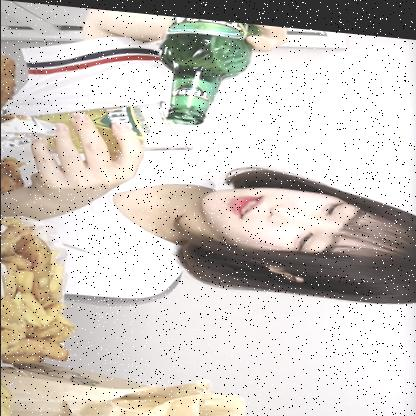streamer: (7, 1, 416, 320)
